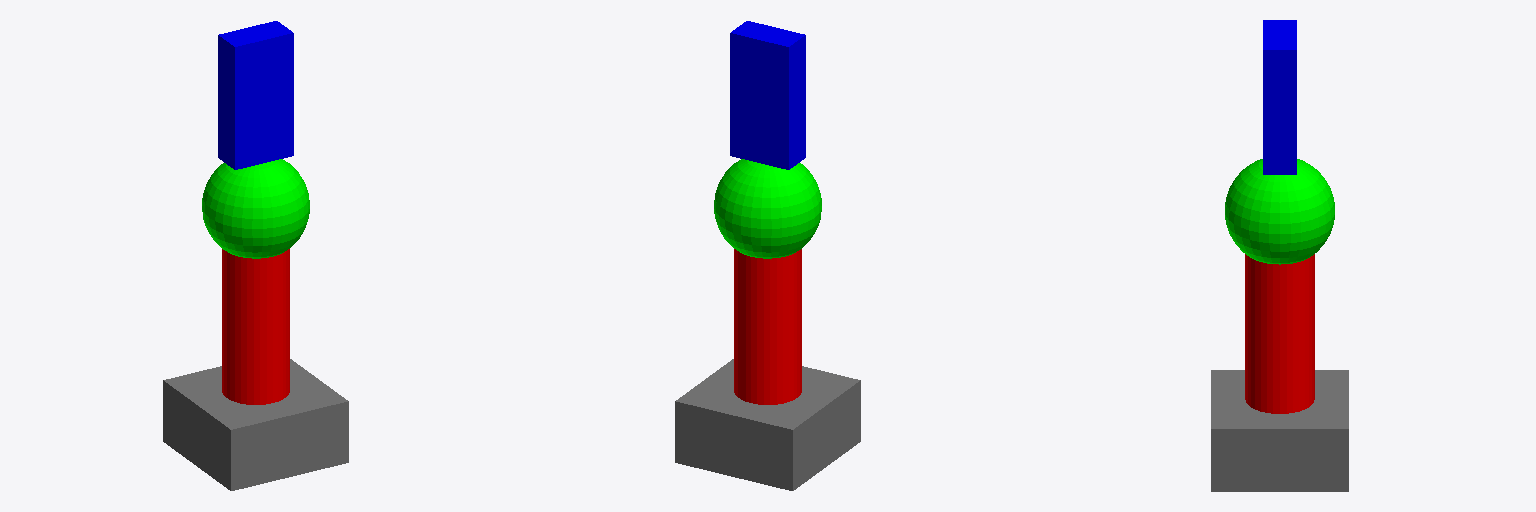
The robot description file, URDF, robot "primitives_robot":
<?xml version="1.0"?>
<!-- Robot with all primitive geometry types for testing geometry handling -->
<robot name="primitives_robot">
  <link name="base_link">
    <visual>
      <geometry>
        <box size="0.2 0.2 0.1"/>
      </geometry>
      <material name="gray">
        <color rgba="0.5 0.5 0.5 1"/>
      </material>
    </visual>
    <collision>
      <geometry>
        <box size="0.2 0.2 0.1"/>
      </geometry>
    </collision>
    <inertial>
      <mass value="5.0"/>
      <inertia ixx="0.05" ixy="0" ixz="0" iyy="0.05" iyz="0" izz="0.08"/>
    </inertial>
  </link>

  <!-- Link with cylinder geometry -->
  <link name="cylinder_link">
    <visual>
      <geometry>
        <cylinder radius="0.05" length="0.3"/>
      </geometry>
      <origin xyz="0 0 0.15" rpy="0 0 0"/>
      <material name="red">
        <color rgba="1 0 0 1"/>
      </material>
    </visual>
    <collision>
      <geometry>
        <cylinder radius="0.05" length="0.3"/>
      </geometry>
      <origin xyz="0 0 0.15" rpy="0 0 0"/>
    </collision>
    <inertial>
      <mass value="1.0"/>
      <origin xyz="0 0 0.15" rpy="0 0 0"/>
      <inertia ixx="0.01" ixy="0" ixz="0" iyy="0.01" iyz="0" izz="0.002"/>
    </inertial>
  </link>

  <!-- Link with sphere geometry -->
  <link name="sphere_link">
    <visual>
      <geometry>
        <sphere radius="0.08"/>
      </geometry>
      <material name="green">
        <color rgba="0 1 0 1"/>
      </material>
    </visual>
    <collision>
      <geometry>
        <sphere radius="0.08"/>
      </geometry>
    </collision>
    <inertial>
      <mass value="0.5"/>
      <inertia ixx="0.001" ixy="0" ixz="0" iyy="0.001" iyz="0" izz="0.001"/>
    </inertial>
  </link>

  <!-- Link with box geometry -->
  <link name="box_link">
    <visual>
      <geometry>
        <box size="0.1 0.05 0.2"/>
      </geometry>
      <origin xyz="0 0 0.1" rpy="0 0 0"/>
      <material name="blue">
        <color rgba="0 0 1 1"/>
      </material>
    </visual>
    <collision>
      <geometry>
        <box size="0.1 0.05 0.2"/>
      </geometry>
      <origin xyz="0 0 0.1" rpy="0 0 0"/>
    </collision>
    <inertial>
      <mass value="0.3"/>
      <origin xyz="0 0 0.1" rpy="0 0 0"/>
      <inertia ixx="0.002" ixy="0" ixz="0" iyy="0.002" iyz="0" izz="0.001"/>
    </inertial>
  </link>

  <joint name="cylinder_joint" type="revolute">
    <parent link="base_link"/>
    <child link="cylinder_link"/>
    <origin xyz="0 0 0.05" rpy="0 0 0"/>
    <axis xyz="0 0 1"/>
    <limit lower="-3.14159" upper="3.14159" effort="10" velocity="1"/>
  </joint>

  <joint name="sphere_joint" type="revolute">
    <parent link="cylinder_link"/>
    <child link="sphere_link"/>
    <origin xyz="0 0 0.3" rpy="0 0 0"/>
    <axis xyz="0 1 0"/>
    <limit lower="-1.57" upper="1.57" effort="5" velocity="1"/>
  </joint>

  <joint name="box_joint" type="revolute">
    <parent link="sphere_link"/>
    <child link="box_link"/>
    <origin xyz="0 0 0.08" rpy="0 0 0"/>
    <axis xyz="1 0 0"/>
    <limit lower="-1.57" upper="1.57" effort="5" velocity="1"/>
  </joint>
</robot>

--- Facts derived from the render (not from the file) ---
The picture shows the robot from 3 angles, left to right: view 1: azimuth 30°, elevation 25°; view 2: azimuth 150°, elevation 25°; view 3: azimuth 270°, elevation 25°; orthographic projection.
Robot: primitives_robot — 4 links, 3 joints (3 revolute); root link base_link; default pose: every joint at zero.
Visible links, largest first — view 1: base_link, box_link, cylinder_link, sphere_link; view 2: base_link, box_link, cylinder_link, sphere_link; view 3: base_link, cylinder_link, sphere_link, box_link.
Link boxes in pixels (x1,y1,x2,y2): base_link: (163, 359, 348, 490); box_link: (218, 21, 293, 169); cylinder_link: (222, 249, 289, 404); sphere_link: (202, 159, 309, 258); base_link: (675, 359, 860, 490); box_link: (730, 21, 805, 169); cylinder_link: (734, 249, 801, 404); sphere_link: (714, 159, 821, 258); base_link: (1211, 370, 1348, 491); cylinder_link: (1245, 254, 1314, 413); sphere_link: (1225, 159, 1334, 264); box_link: (1263, 20, 1296, 174).
Size in the robot's own frame: 0.2 by 0.2 by 0.68 metres.
Geometry: primitives only (box / cylinder / sphere), no mesh files.